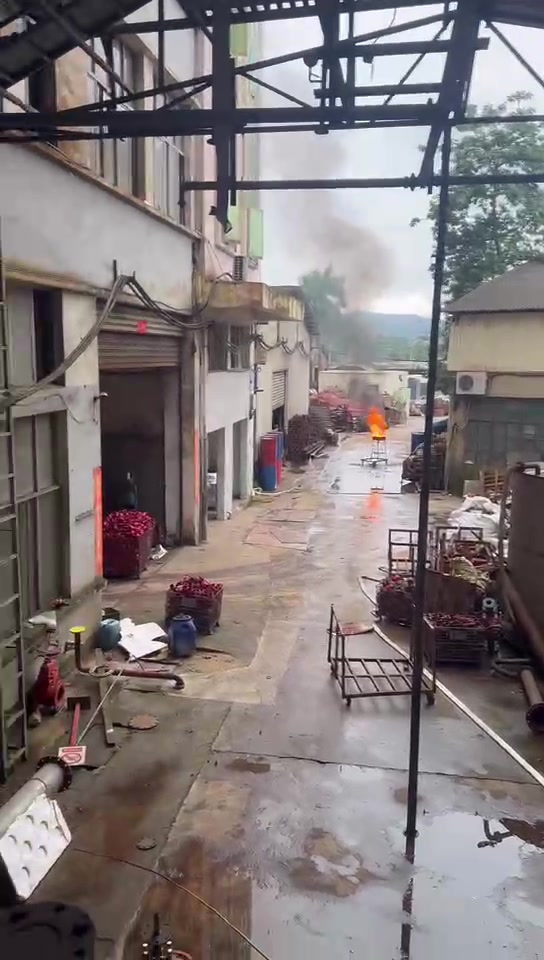fire: (367, 407, 386, 437)
